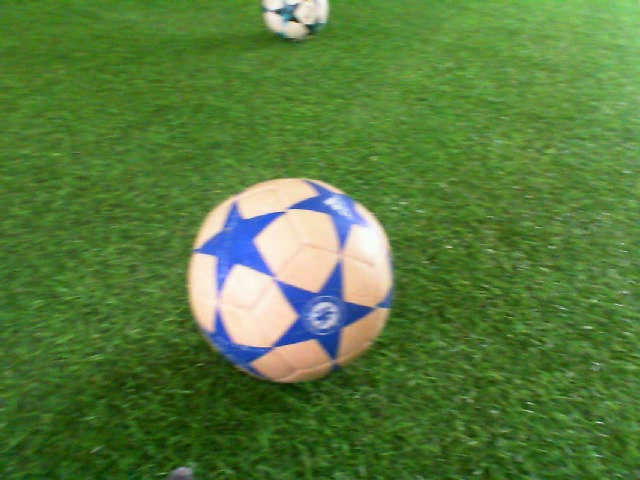ball: (183, 174, 400, 389), (255, 1, 333, 41)
